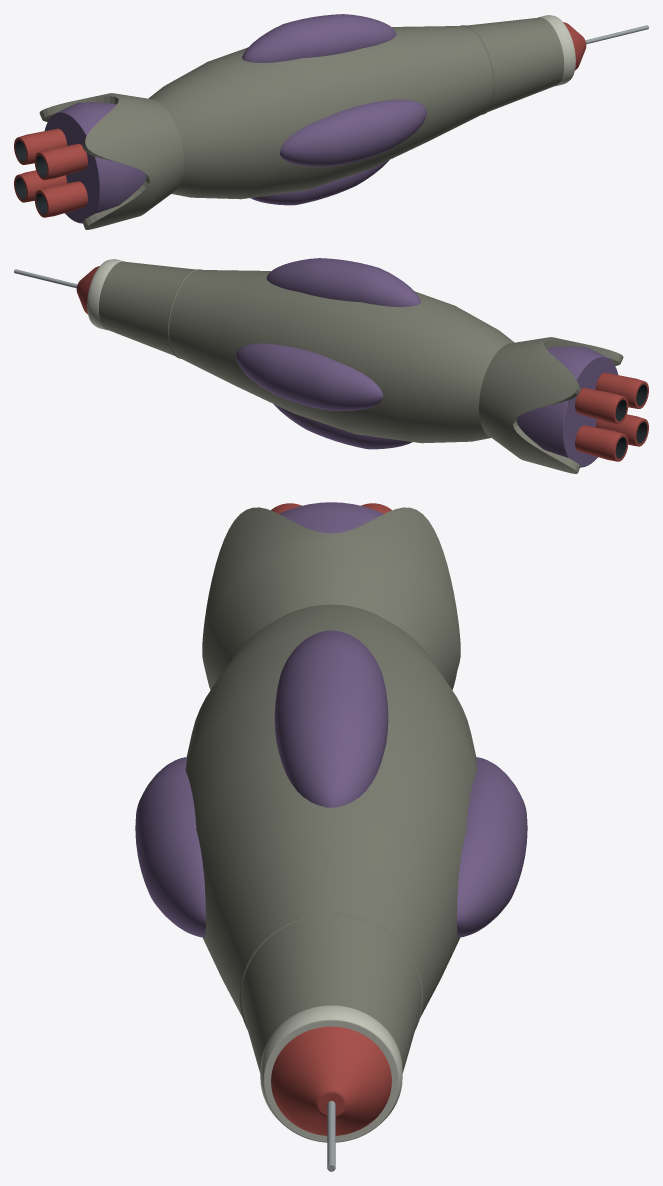
3 renders of one model, top to bottom at view 1: azimuth 30°, elevation 25°; view 2: azimuth 150°, elevation 25°; view 3: azimuth 270°, elevation 25°, orthographic. The views are drawn at different scales.
Parts seen in each view (by area): view 1: TI096 / Anti Virus long-neck pressure casing, TI096 / Virus family scalloped olive skirt, TI096 / Anti Virus long violet side form, TI096 / Anti Virus long violet side form.003, TI096 / Virus family violet skirt underlayer, TI096 / Anti Virus long violet side form.001, TI096 / Virus family hollow red nozzle.001, TI096 / Virus family hollow red nozzle, TI096 / Virus family hollow red nozzle.002, TI096 / Virus family hollow red nozzle.003, TI096 / Anti Virus pale nose collar, TI096 / Virus family red nose cap; view 2: TI096 / Anti Virus long-neck pressure casing, TI096 / Virus family scalloped olive skirt, TI096 / Anti Virus long violet side form.002, TI096 / Anti Virus long violet side form.003, TI096 / Virus family violet skirt underlayer, TI096 / Anti Virus long violet side form.001, TI096 / Virus family hollow red nozzle.003, TI096 / Virus family hollow red nozzle.002, TI096 / Virus family hollow red nozzle, TI096 / Virus family hollow red nozzle.001, TI096 / Anti Virus pale nose collar, TI096 / Virus family red nose cap; view 3: TI096 / Anti Virus long-neck pressure casing, TI096 / Virus family scalloped olive skirt, TI096 / Anti Virus long violet side form.003, TI096 / Virus family red nose cap, TI096 / Anti Virus long violet side form, TI096 / Anti Virus long violet side form.002, TI096 / Anti Virus pale nose collar, TI096 / Virus family violet skirt underlayer.
Boxes of the visible parts, bbox=[...] form: TI096 / Anti Virus long-neck pressure casing: bbox=[148, 17, 563, 199]; TI096 / Virus family scalloped olive skirt: bbox=[39, 93, 183, 229]; TI096 / Anti Virus long violet side form: bbox=[280, 99, 426, 167]; TI096 / Anti Virus long violet side form.003: bbox=[242, 14, 396, 62]; TI096 / Virus family violet skirt underlayer: bbox=[44, 102, 146, 223]; TI096 / Anti Virus long violet side form.001: bbox=[250, 160, 389, 205]; TI096 / Virus family hollow red nozzle.001: bbox=[34, 181, 87, 217]; TI096 / Virus family hollow red nozzle: bbox=[34, 144, 87, 180]; TI096 / Virus family hollow red nozzle.002: bbox=[14, 128, 67, 164]; TI096 / Virus family hollow red nozzle.003: bbox=[14, 170, 67, 202]; TI096 / Anti Virus pale nose collar: bbox=[538, 15, 575, 86]; TI096 / Virus family red nose cap: bbox=[563, 22, 586, 70]; TI096 / Anti Virus long-neck pressure casing: bbox=[99, 261, 514, 443]; TI096 / Virus family scalloped olive skirt: bbox=[479, 337, 623, 473]; TI096 / Anti Virus long violet side form.002: bbox=[236, 343, 382, 411]; TI096 / Anti Virus long violet side form.003: bbox=[266, 258, 420, 306]; TI096 / Virus family violet skirt underlayer: bbox=[516, 346, 618, 467]; TI096 / Anti Virus long violet side form.001: bbox=[273, 404, 412, 449]; TI096 / Virus family hollow red nozzle.003: bbox=[575, 425, 628, 461]; TI096 / Virus family hollow red nozzle.002: bbox=[575, 388, 628, 424]; TI096 / Virus family hollow red nozzle: bbox=[595, 372, 648, 408]; TI096 / Virus family hollow red nozzle.001: bbox=[595, 414, 648, 446]; TI096 / Anti Virus pale nose collar: bbox=[87, 259, 124, 330]; TI096 / Virus family red nose cap: bbox=[76, 266, 99, 314]; TI096 / Anti Virus long-neck pressure casing: bbox=[185, 604, 477, 1072]; TI096 / Virus family scalloped olive skirt: bbox=[202, 507, 460, 689]; TI096 / Anti Virus long violet side form.003: bbox=[274, 630, 388, 807]; TI096 / Virus family red nose cap: bbox=[271, 1026, 391, 1135]; TI096 / Anti Virus long violet side form: bbox=[135, 757, 205, 937]; TI096 / Anti Virus long violet side form.002: bbox=[457, 757, 527, 937]; TI096 / Anti Virus pale nose collar: bbox=[260, 1005, 402, 1142]; TI096 / Virus family violet skirt underlayer: bbox=[279, 502, 383, 533].
Size of the model in its own units: 6.06 by 1.67 by 1.67.
